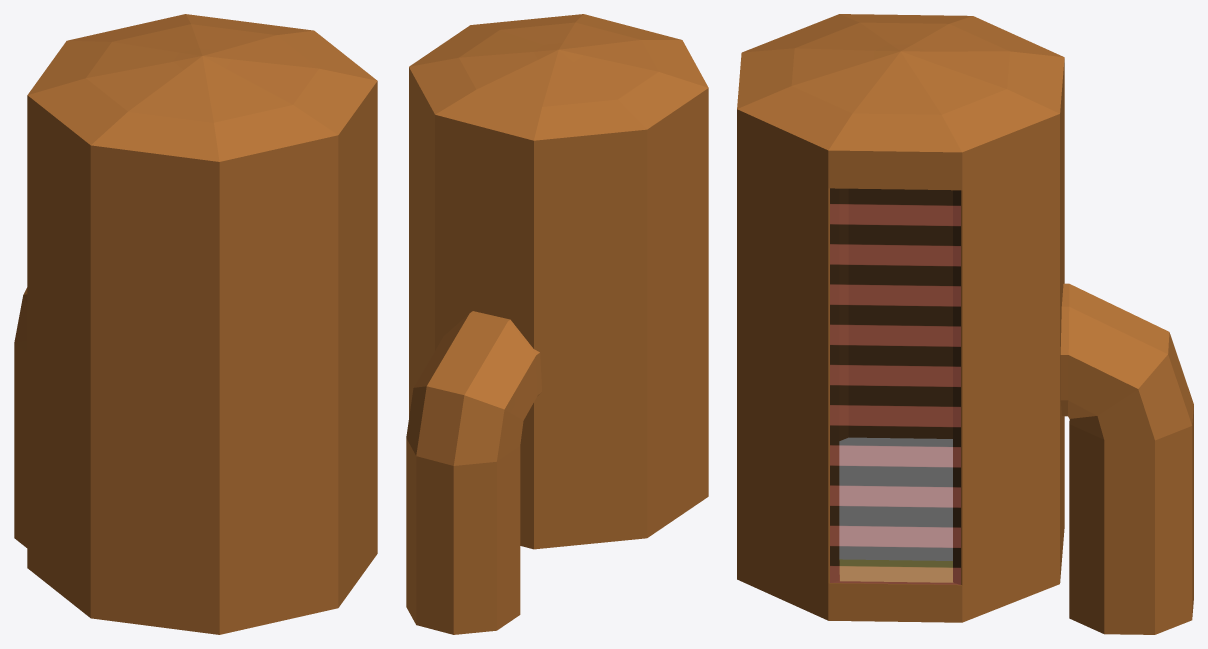
The model's file is VAT10.glb.
3 renders of one model, left to right at view 1: azimuth 30°, elevation 25°; view 2: azimuth 150°, elevation 25°; view 3: azimuth 270°, elevation 25°, orthographic. The views are drawn at different scales.
Parts seen in each view (by area): view 1: Cylinder, Cylinder.001; view 2: Cylinder, Cylinder.001; view 3: Cylinder, glass, Cylinder.001, liquidHeight.
Part boxes in pixels (left/top/right/bottom): Cylinder: left=27, top=14, right=377, bottom=634; Cylinder.001: left=14, top=287, right=27, bottom=547; Cylinder: left=409, top=14, right=708, bottom=549; Cylinder.001: left=406, top=311, right=541, bottom=634; Cylinder: left=737, top=14, right=1064, bottom=622; glass: left=830, top=188, right=960, bottom=584; Cylinder.001: left=1060, top=283, right=1193, bottom=634; liquidHeight: left=839, top=438, right=952, bottom=582.
Size of the model in its own units: 1.82 by 3.44 by 2.54.
Materials: 4 (1 with a texture image).
